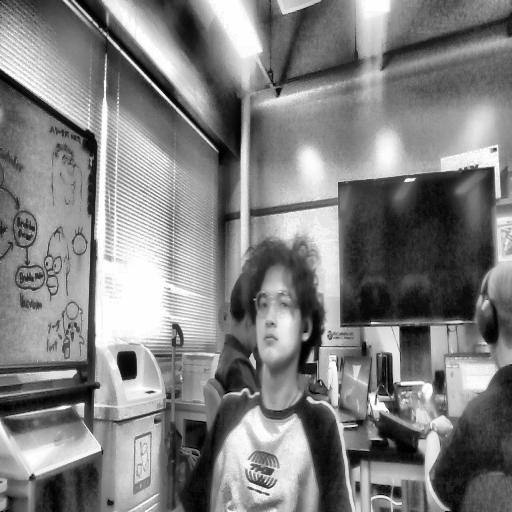Daifuku: (248, 243, 326, 374)
Not Daifuku: (472, 262, 512, 372), (230, 274, 256, 354)
